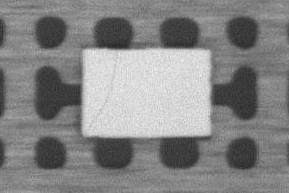DIE_CRACK: (87, 50, 118, 134)
